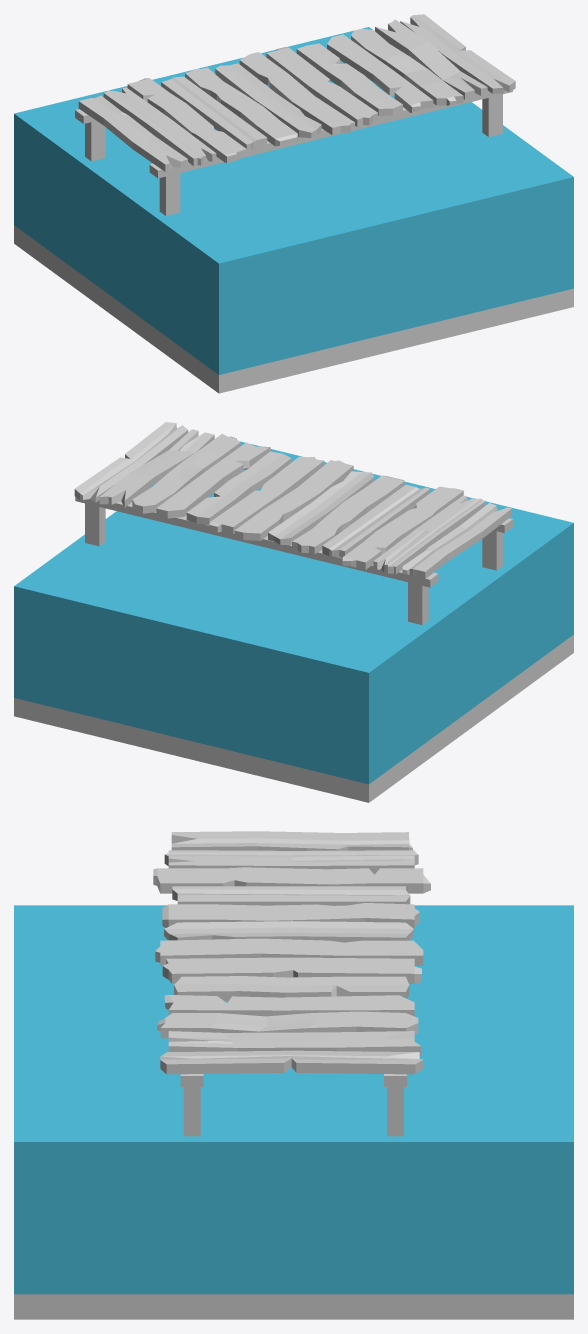
The model's file is PortLR.fbx.
3 renders of one model, top to bottom at view 1: azimuth 30°, elevation 25°; view 2: azimuth 150°, elevation 25°; view 3: azimuth 270°, elevation 25°, orthographic. The views are drawn at different scales.
Parts seen in each view (by area): view 1: PortLR; view 2: PortLR; view 3: PortLR.
Boxes of the visible parts, x1,y1,x2,y2 form: PortLR: (14, 14, 573, 393); PortLR: (14, 422, 573, 802); PortLR: (14, 831, 573, 1319).
Size of the model in its own units: 2 by 2 by 1.
